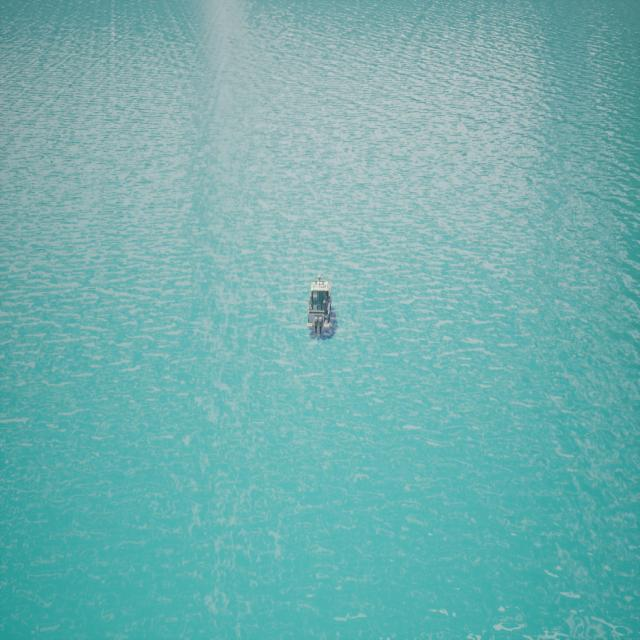ship: (306, 278, 336, 342)
